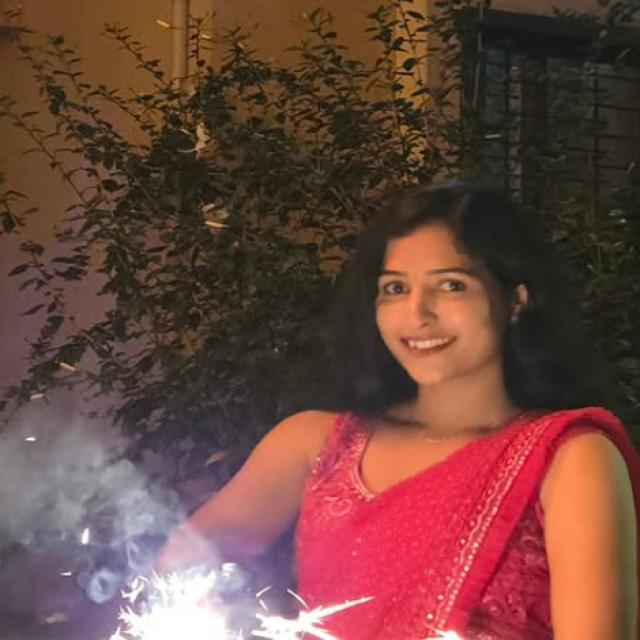fire: (106, 560, 246, 640), (251, 585, 376, 640)
